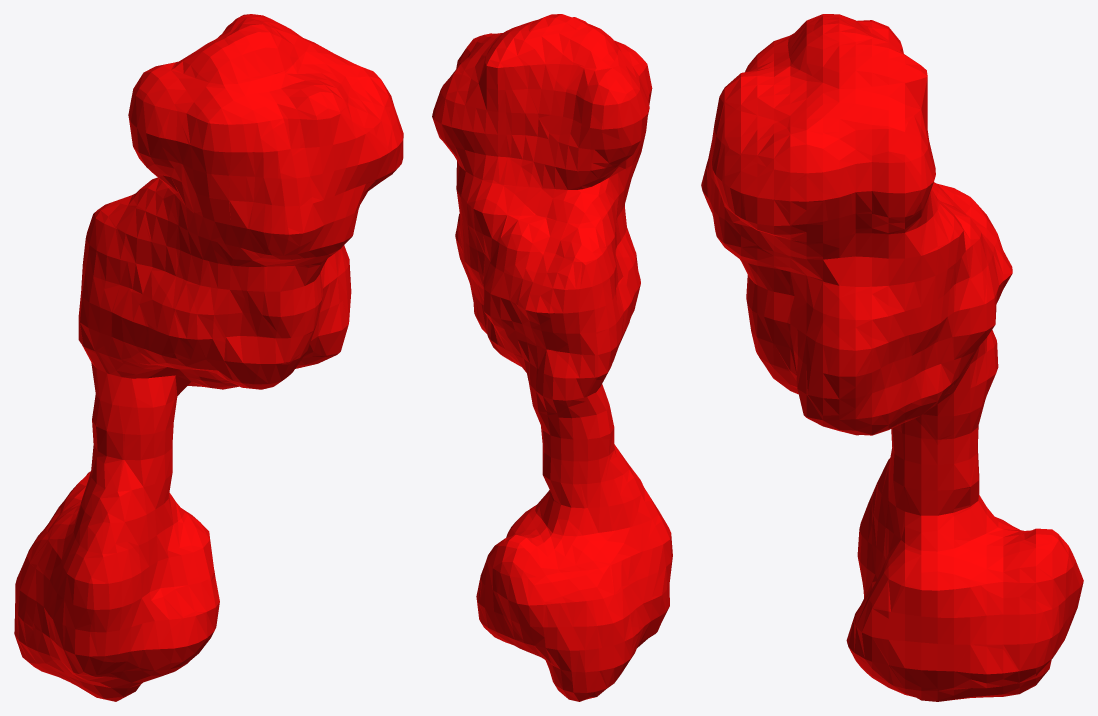
The model's file is cysB_coarse.dae.
3 renders of one model, left to right at view 1: azimuth 30°, elevation 25°; view 2: azimuth 150°, elevation 25°; view 3: azimuth 270°, elevation 25°, orthographic. The views are drawn at different scales.
Visible parts, largest first — view 1: cysB; view 2: cysB; view 3: cysB.
Part boxes in pixels (x1=…): cysB: x1=14, y1=14, x2=403, y2=701; cysB: x1=432, y1=14, x2=672, y2=701; cysB: x1=701, y1=14, x2=1083, y2=701.
Size of the model in its own units: 47.96 by 111 by 53.06.
